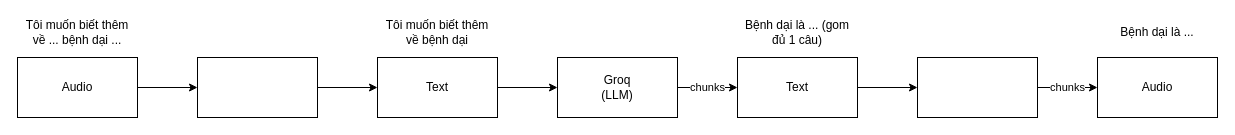
Image size: 1235x135. Some labels were removed from this diagram. Each missing label, with the centre of its shape:
"Azure Speech (TTS)" belongs at [977,87].
"Deepgram (STT)" belongs at [257,87].
